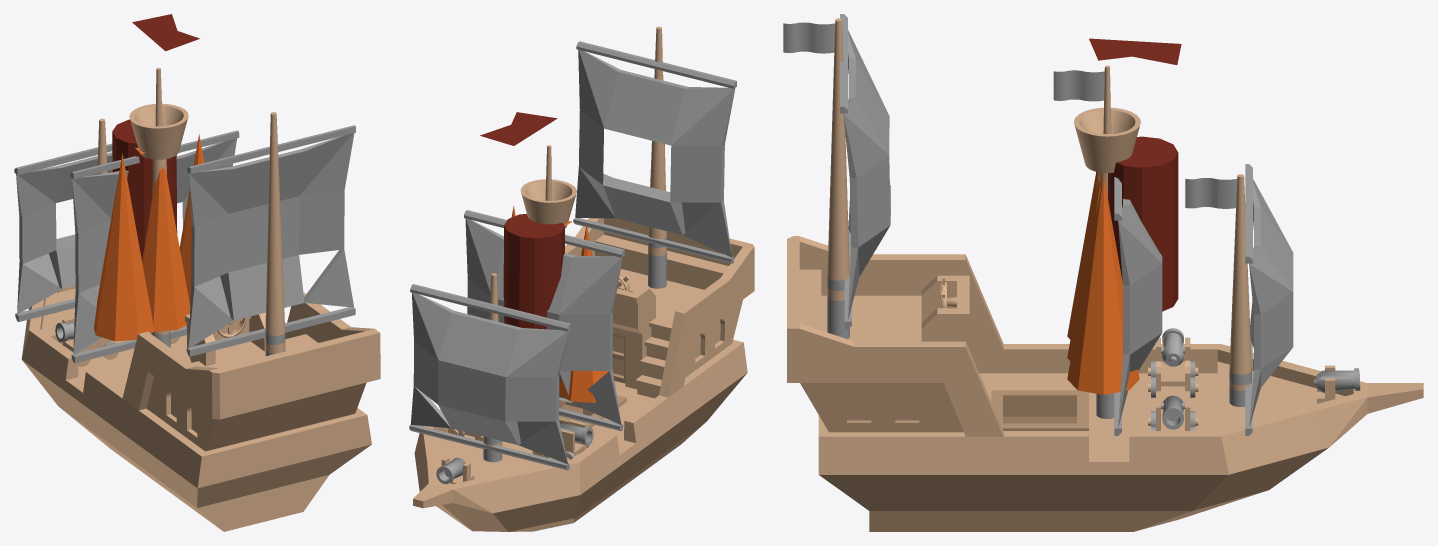
Rendered from ile_05_volcan_rouge_anime.glb.
3 renders of one model, left to right at view 1: azimuth 30°, elevation 25°; view 2: azimuth 150°, elevation 25°; view 3: azimuth 270°, elevation 25°, orthographic. The views are drawn at different scales.
Parts seen in each view (by area): view 1: navire_pirate_sombre_assimp, Pic_Volcan_0, Pic_Volcan_1, Cheminee_Volcan, Grand_Pavillon, Pic_Volcan_2; view 2: navire_pirate_sombre_assimp, Cheminee_Volcan, Grand_Pavillon, Pic_Volcan_0; view 3: navire_pirate_sombre_assimp, Pic_Volcan_2, Cheminee_Volcan, Grand_Pavillon, Pic_Volcan_1, Pic_Volcan_0.
Part boxes in pixels (<box>): navire_pirate_sombre_assimp: <box>14,68,380,531</box>; Pic_Volcan_0: <box>94,153,153,341</box>; Pic_Volcan_1: <box>142,167,190,331</box>; Cheminee_Volcan: <box>112,119,177,260</box>; Grand_Pavillon: <box>132,14,199,51</box>; Pic_Volcan_2: <box>179,134,204,305</box>; navire_pirate_sombre_assimp: <box>409,26,754,531</box>; Cheminee_Volcan: <box>503,214,564,329</box>; Grand_Pavillon: <box>480,112,557,145</box>; Pic_Volcan_0: <box>559,224,609,402</box>; navire_pirate_sombre_assimp: <box>783,14,1423,531</box>; Pic_Volcan_2: <box>1067,174,1139,394</box>; Cheminee_Volcan: <box>1108,136,1178,311</box>; Grand_Pavillon: <box>1089,38,1181,64</box>; Pic_Volcan_1: <box>1067,179,1100,360</box>; Pic_Volcan_0: <box>1067,172,1098,339</box>.
Size of the model in its own units: 29.64 by 68.13 by 80.98.
